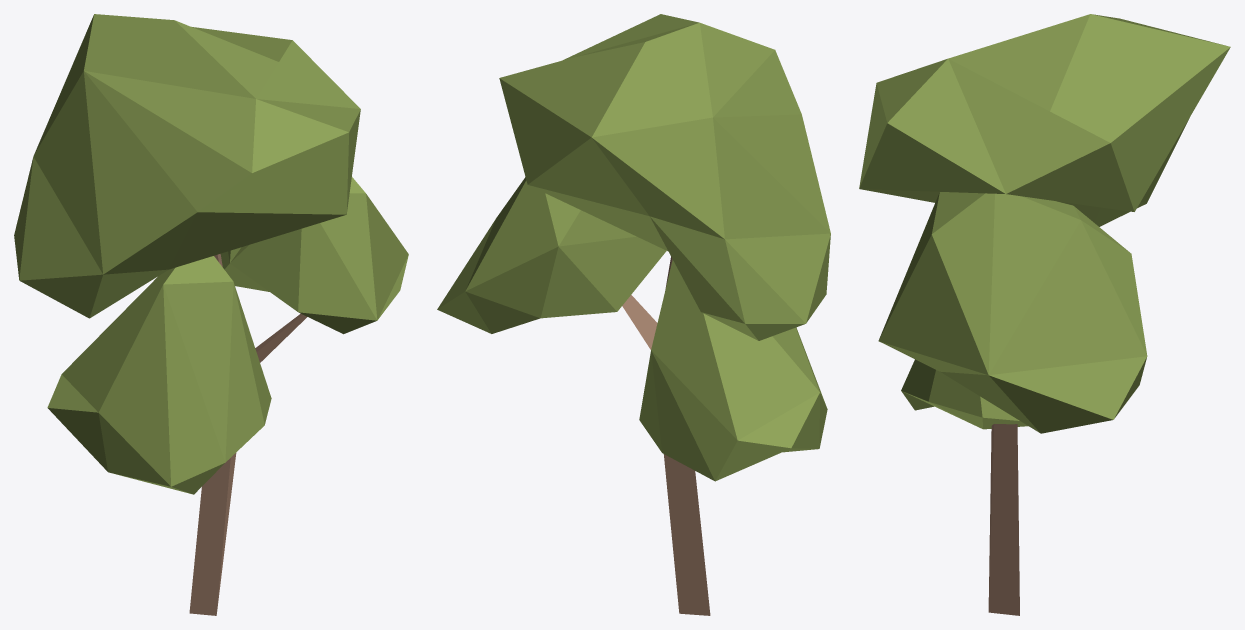
File: Tree_Type3_01.glb
3 renders of one model, left to right at view 1: azimuth 30°, elevation 25°; view 2: azimuth 150°, elevation 25°; view 3: azimuth 270°, elevation 25°, orthographic. The views are drawn at different scales.
Visible parts, largest first — view 1: Tree Type3 01 Model; view 2: Tree Type3 01 Model; view 3: Tree Type3 01 Model.
Part boxes in pixels (x1,y1,x2,y2): Tree Type3 01 Model: (14, 14, 408, 615); Tree Type3 01 Model: (437, 14, 830, 615); Tree Type3 01 Model: (859, 14, 1230, 615).
Bounding box in the file's own units: 1.21 × 1.91 × 1.07.
1 material, 1 textured.
